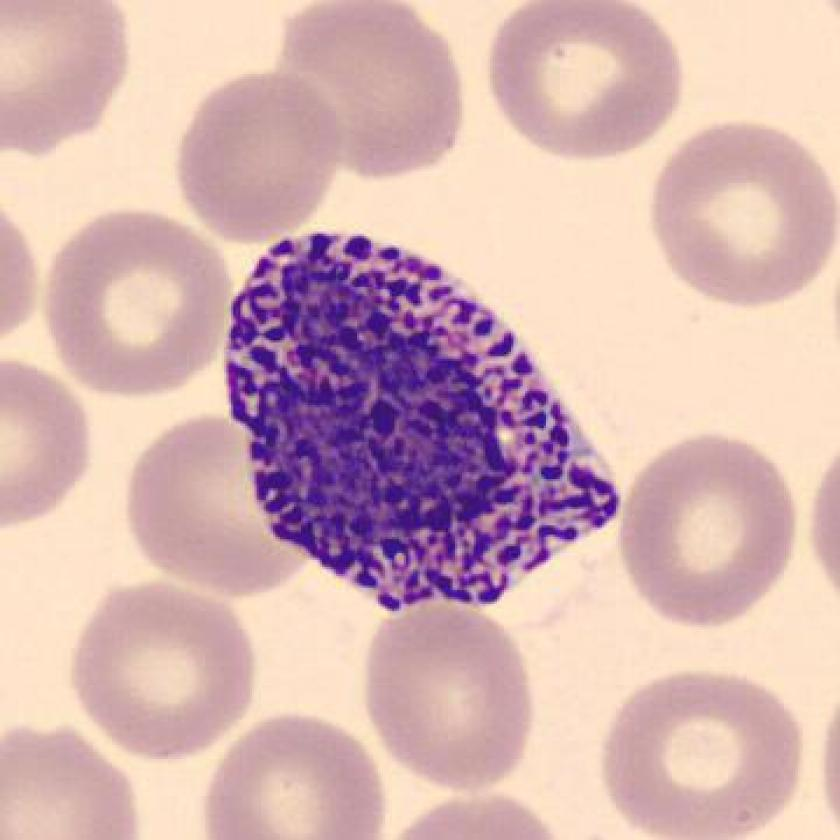basophil: (221, 225, 627, 619)
